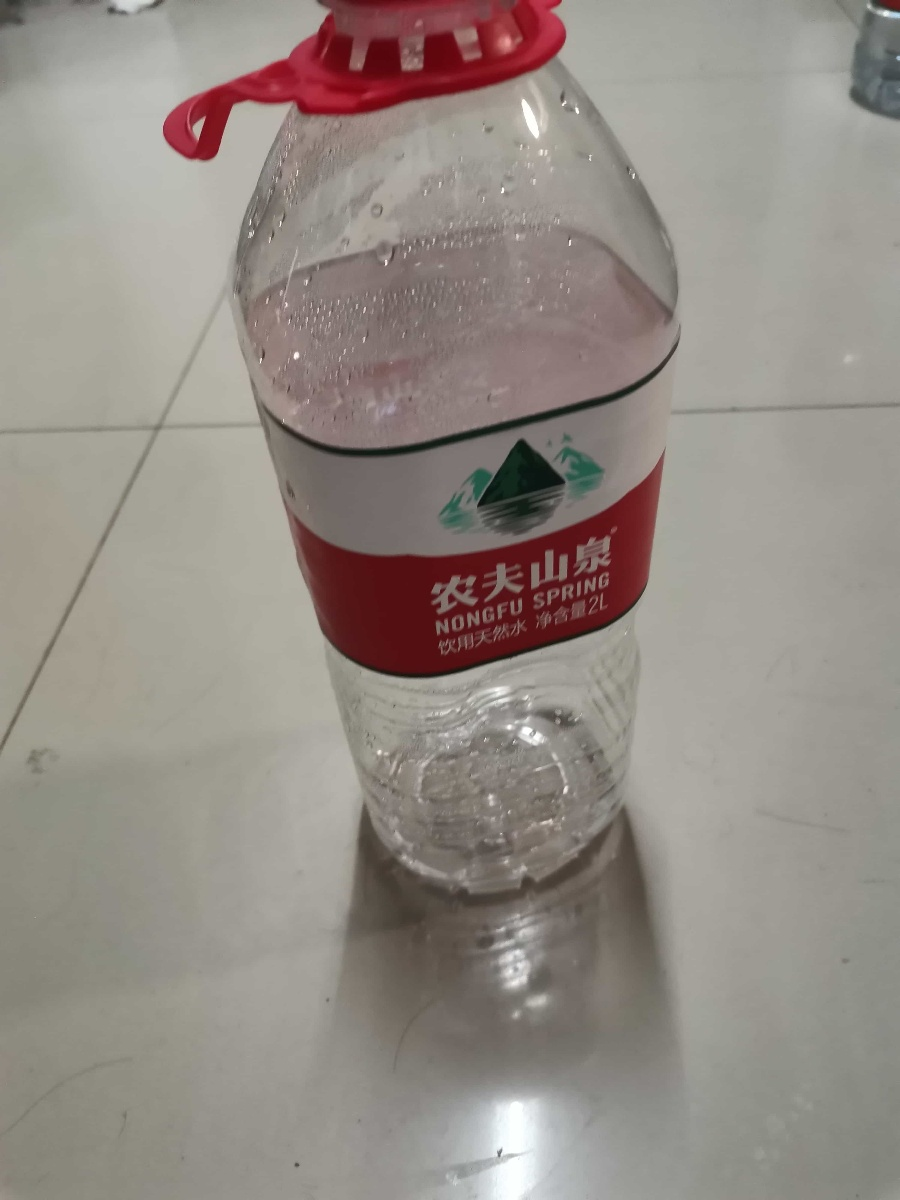plastic bottle: (154, 13, 688, 911)
